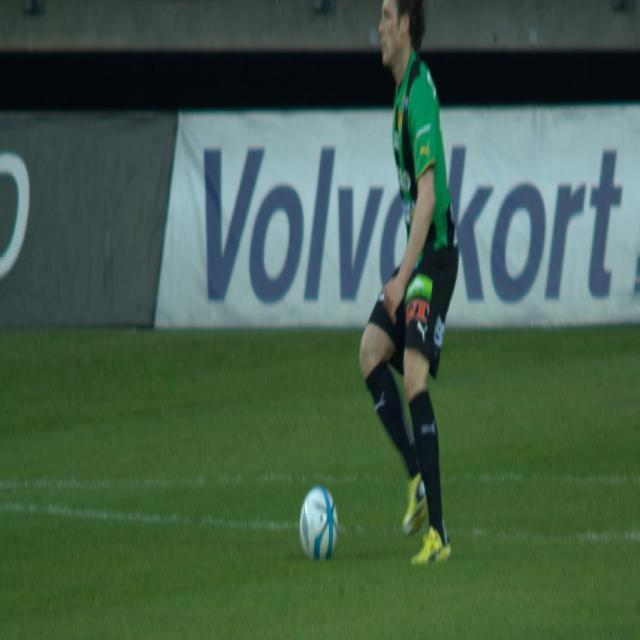ball: (299, 485, 338, 558)
